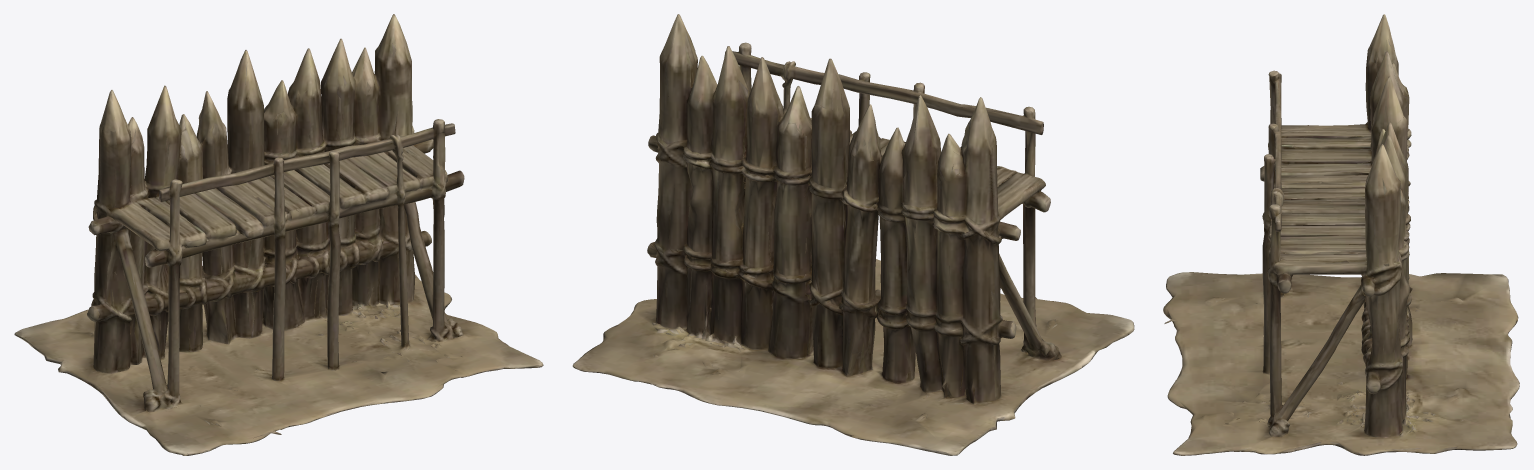
Rendered from palisade.glb.
3 views of the same model, side by side, from view 1: azimuth 30°, elevation 25°; view 2: azimuth 150°, elevation 25°; view 3: azimuth 270°, elevation 25° (orthographic). The views are drawn at different scales.
Visible parts, largest first — view 1: Mesh_0; view 2: Mesh_0; view 3: Mesh_0.
Part boxes in pixels (<box>): Mesh_0: <box>14,14,543,455</box>; Mesh_0: <box>572,14,1134,455</box>; Mesh_0: <box>1163,14,1519,455</box>.
Bounding box in the file's own units: 1.9 × 1.4 × 1.57.
1 material, 1 textured.
